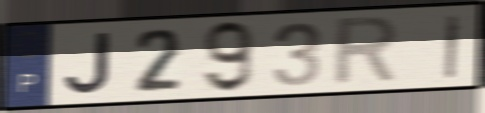2: (132, 27, 183, 94)
3: (271, 20, 323, 88)
9: (201, 19, 257, 96)
I: (442, 12, 465, 81)
J: (62, 30, 114, 96)
R: (329, 13, 403, 89)
